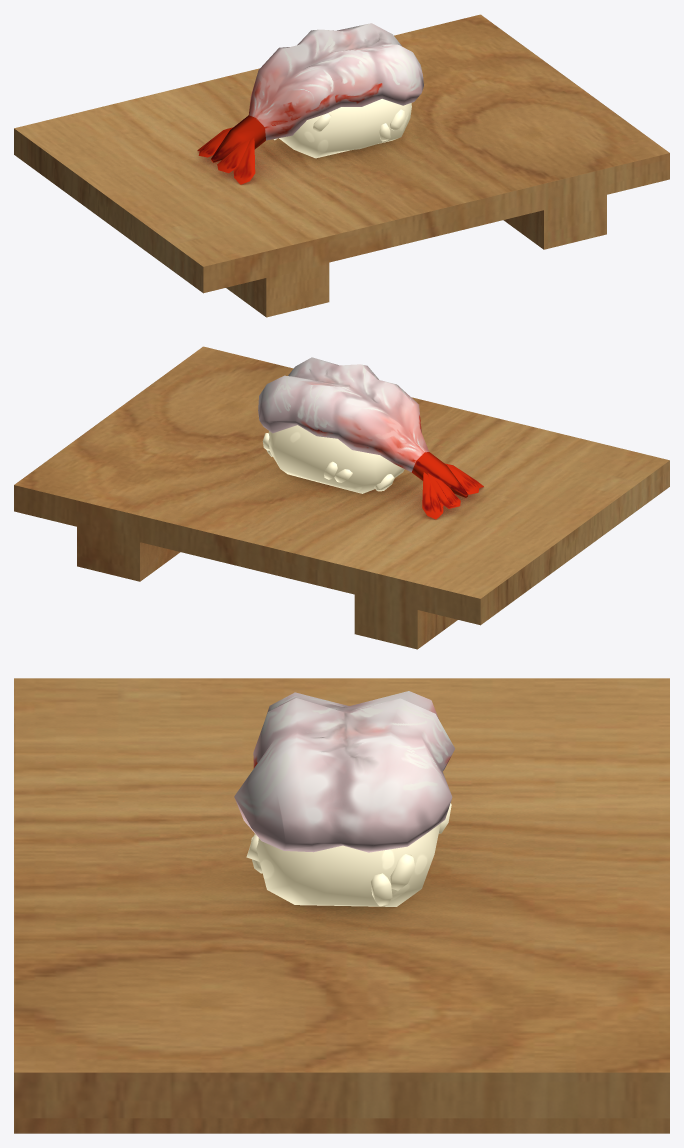
The model's file is sushi_amaebi.glb.
The picture shows the model from 3 angles, top to bottom: view 1: azimuth 30°, elevation 25°; view 2: azimuth 150°, elevation 25°; view 3: azimuth 270°, elevation 25°; orthographic projection. The views are drawn at different scales.
Visible parts, largest first — view 1: geta.vox, Cube.013, Cube.012; view 2: geta.vox, Cube.013, Cube.012; view 3: geta.vox, Cube.013, Cube.012.
Boxes of the visible parts, left/top/right/bottom form: geta.vox: left=14, top=14, right=669, bottom=317; Cube.013: left=197, top=23, right=423, bottom=184; Cube.012: left=273, top=99, right=411, bottom=158; geta.vox: left=14, top=346, right=669, bottom=649; Cube.013: left=258, top=357, right=483, bottom=519; Cube.012: left=262, top=425, right=404, bottom=493; geta.vox: left=14, top=678, right=669, bottom=1133; Cube.013: left=234, top=691, right=454, bottom=852; Cube.012: left=246, top=803, right=451, bottom=906.
Bounding box in the file's own units: 0.6148 × 0.209 × 0.432.
Materials: 3 (3 with a texture image).
